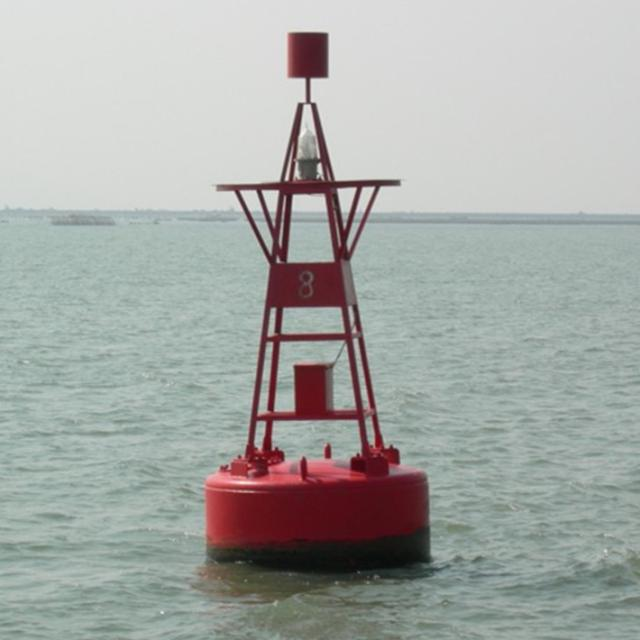buoy: (184, 19, 437, 572)
